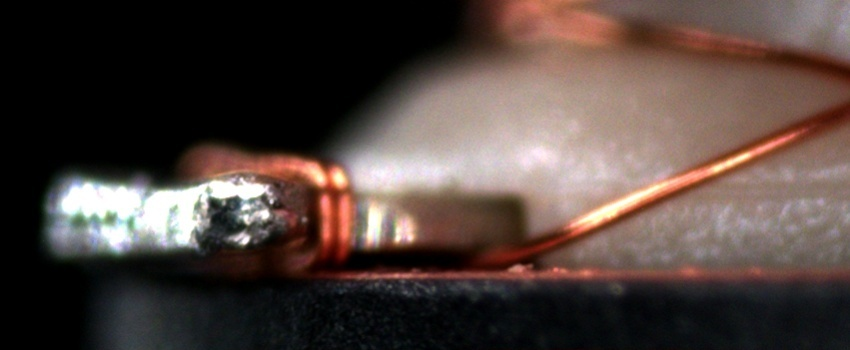DL: (558, 158, 849, 222)
TE: (169, 146, 360, 278)
